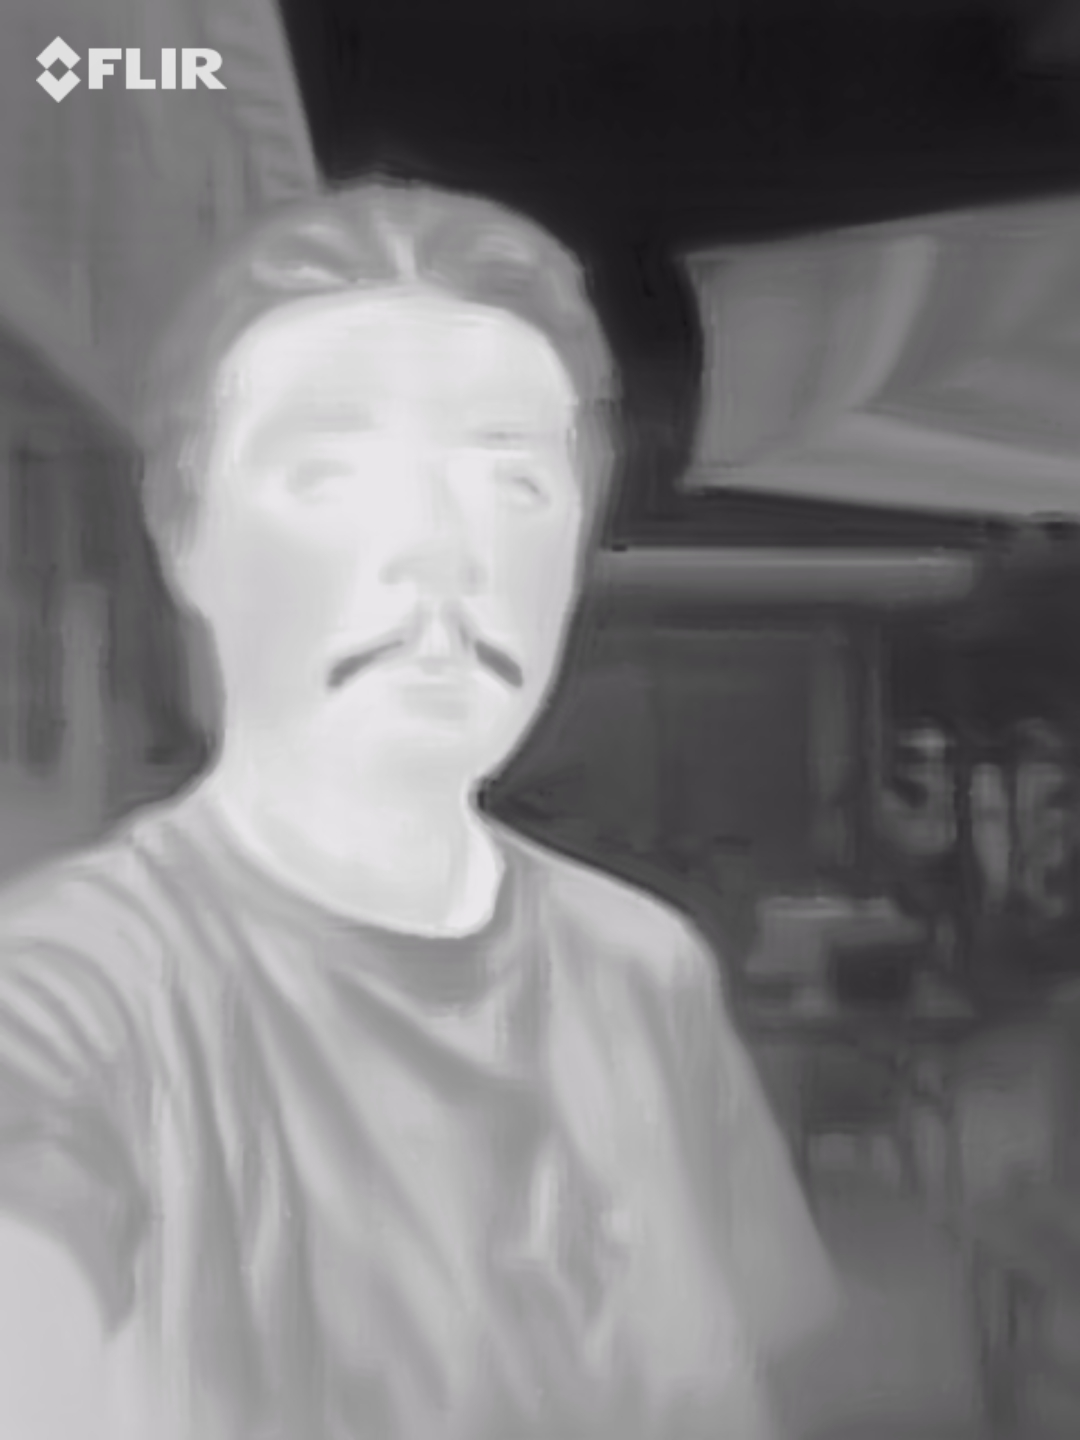head: (141, 179, 617, 813)
